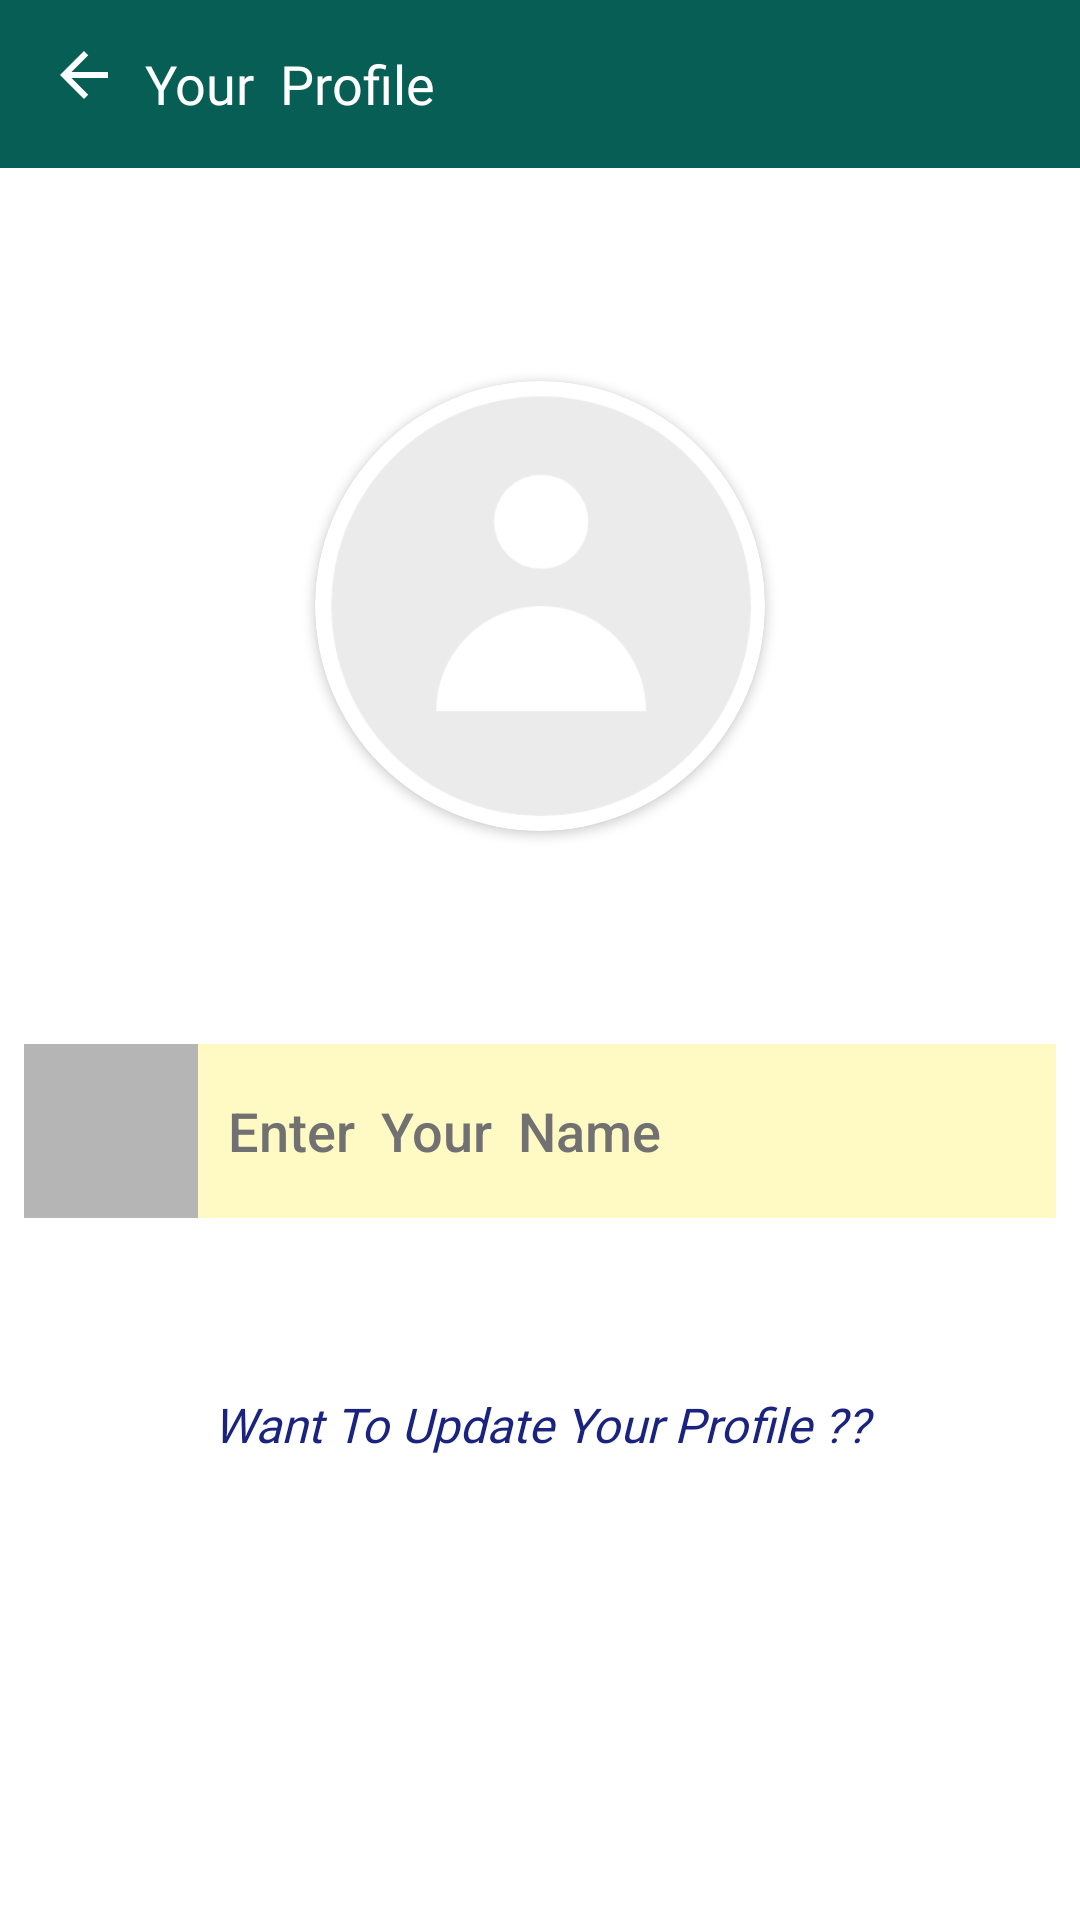

Named icons in this screenshot (1080*1920) and their centers, (x,y):
arrow back: (84,75)
